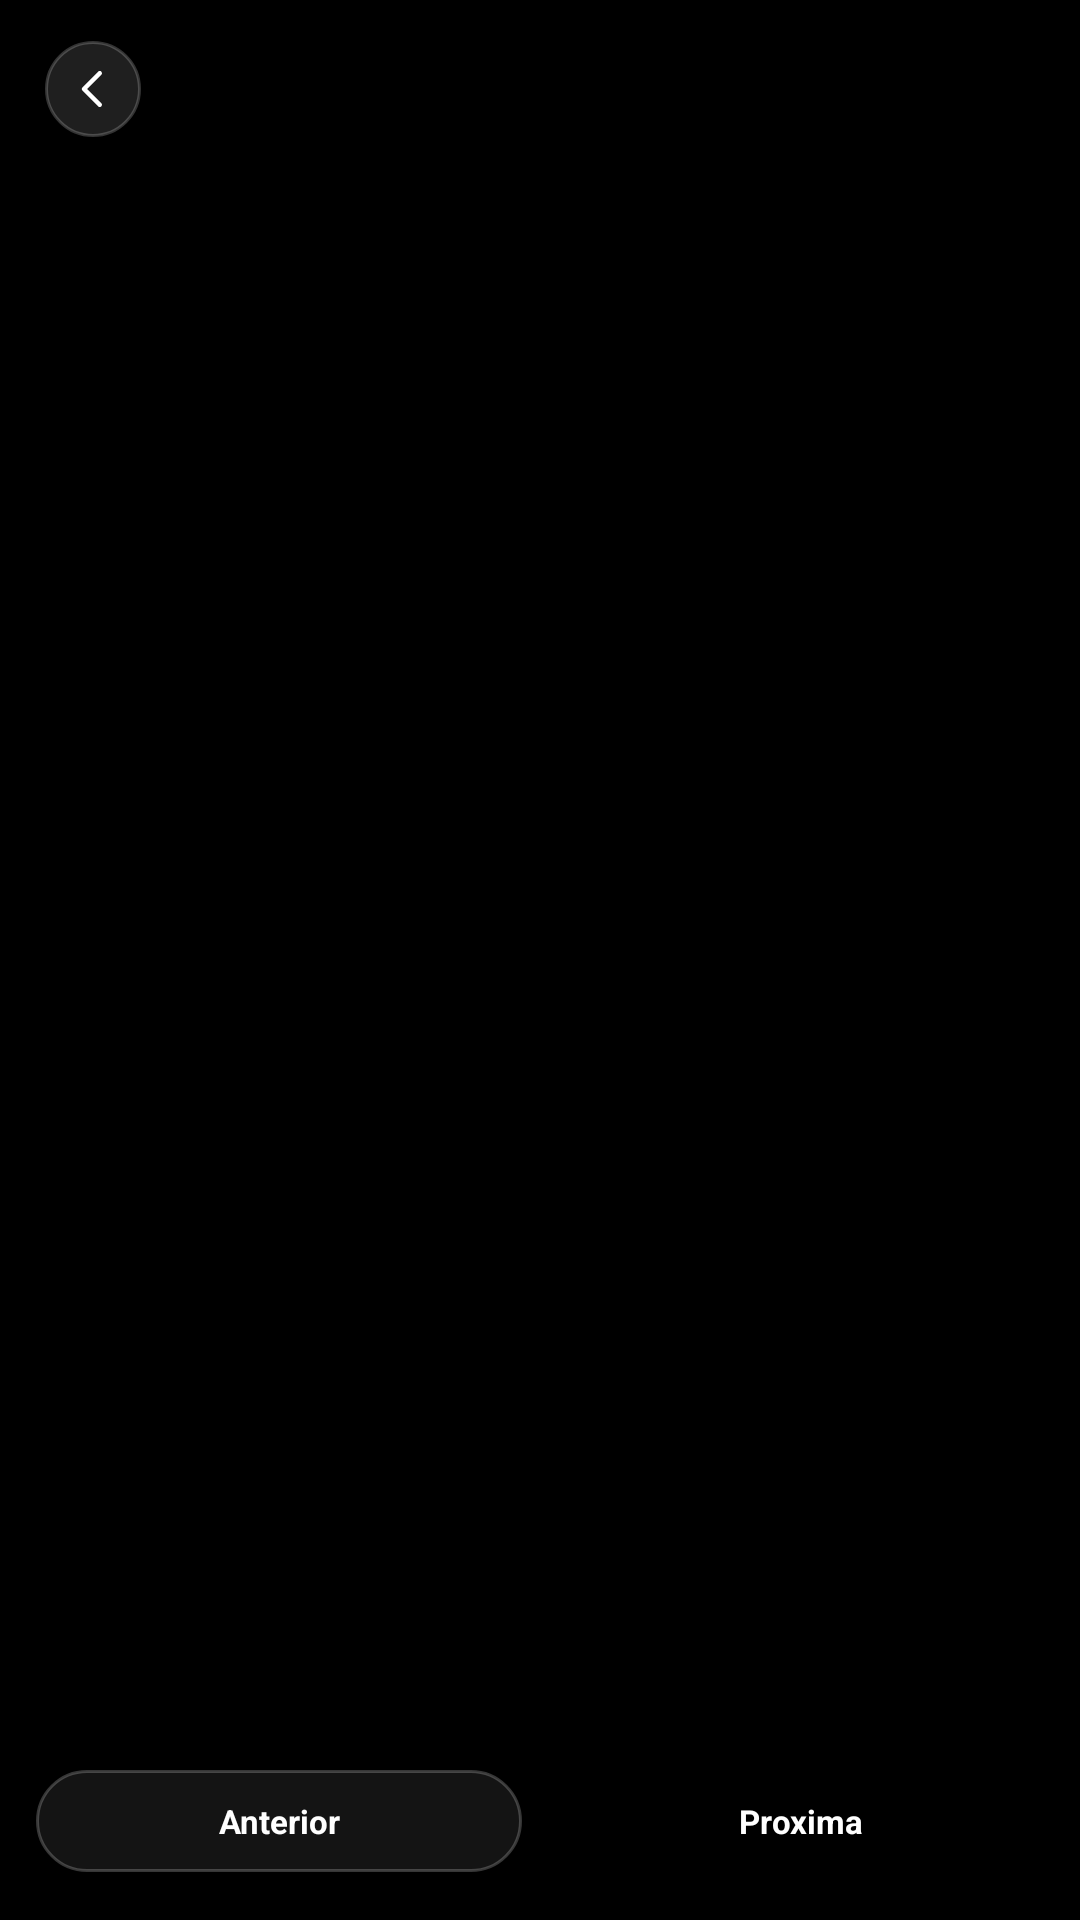

Where icons sit on this 1080px x 1920px app screen, as (x1,y1,x2,y2):
back: (81,71,102,107)
